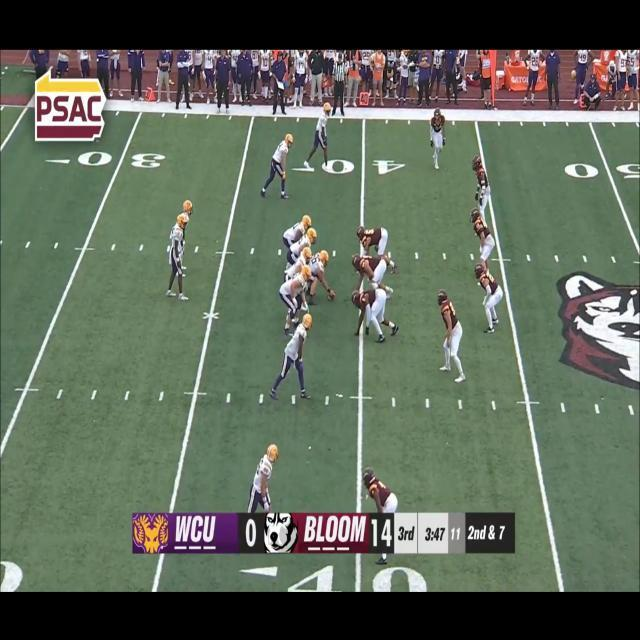football: (326, 288, 336, 304)
